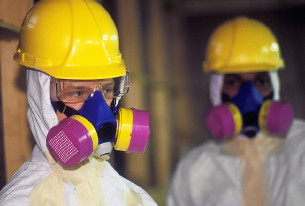face_mask: (47, 68, 116, 153), (221, 61, 273, 133)
